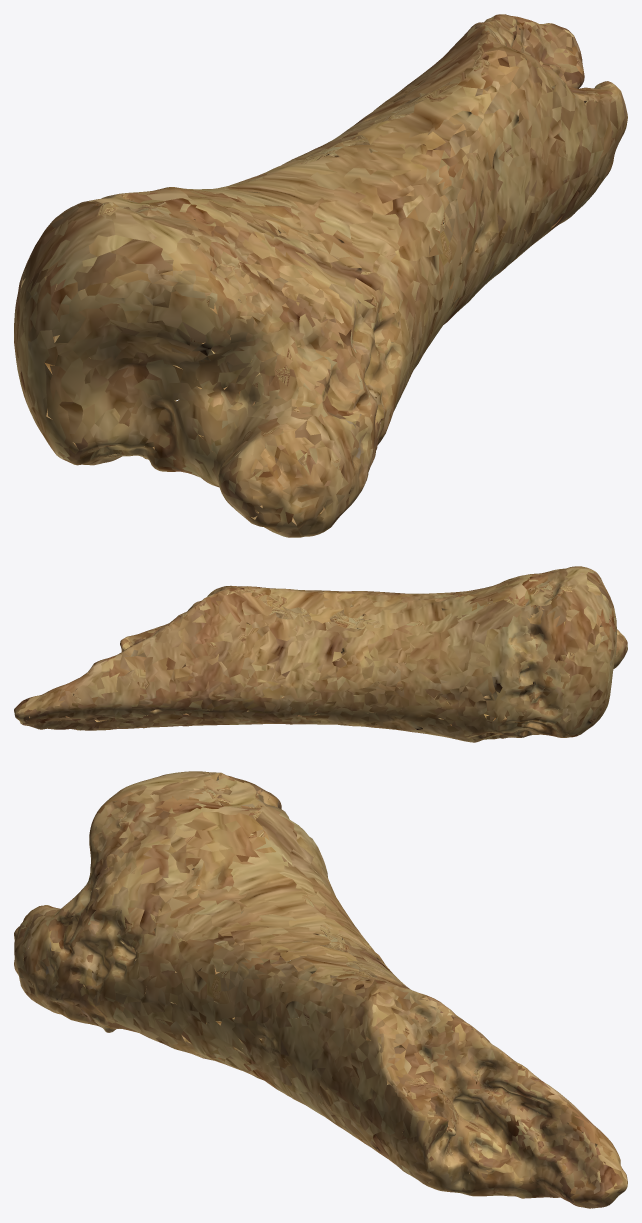
The model's file is bone1234.obj.
3 renders of one model, top to bottom at view 1: azimuth 30°, elevation 25°; view 2: azimuth 150°, elevation 25°; view 3: azimuth 270°, elevation 25°, orthographic. The views are drawn at different scales.
Parts seen in each view (by area): view 1: bone123; view 2: bone123; view 3: bone123.
Part boxes in pixels (box(x1,y1,x2,y2)): bone123: box(14, 14, 627, 537); bone123: box(14, 566, 627, 742); bone123: box(14, 771, 627, 1208).
Bounding box in the file's own units: 118 × 38.12 × 103.
Materials: 1 (1 with a texture image).
